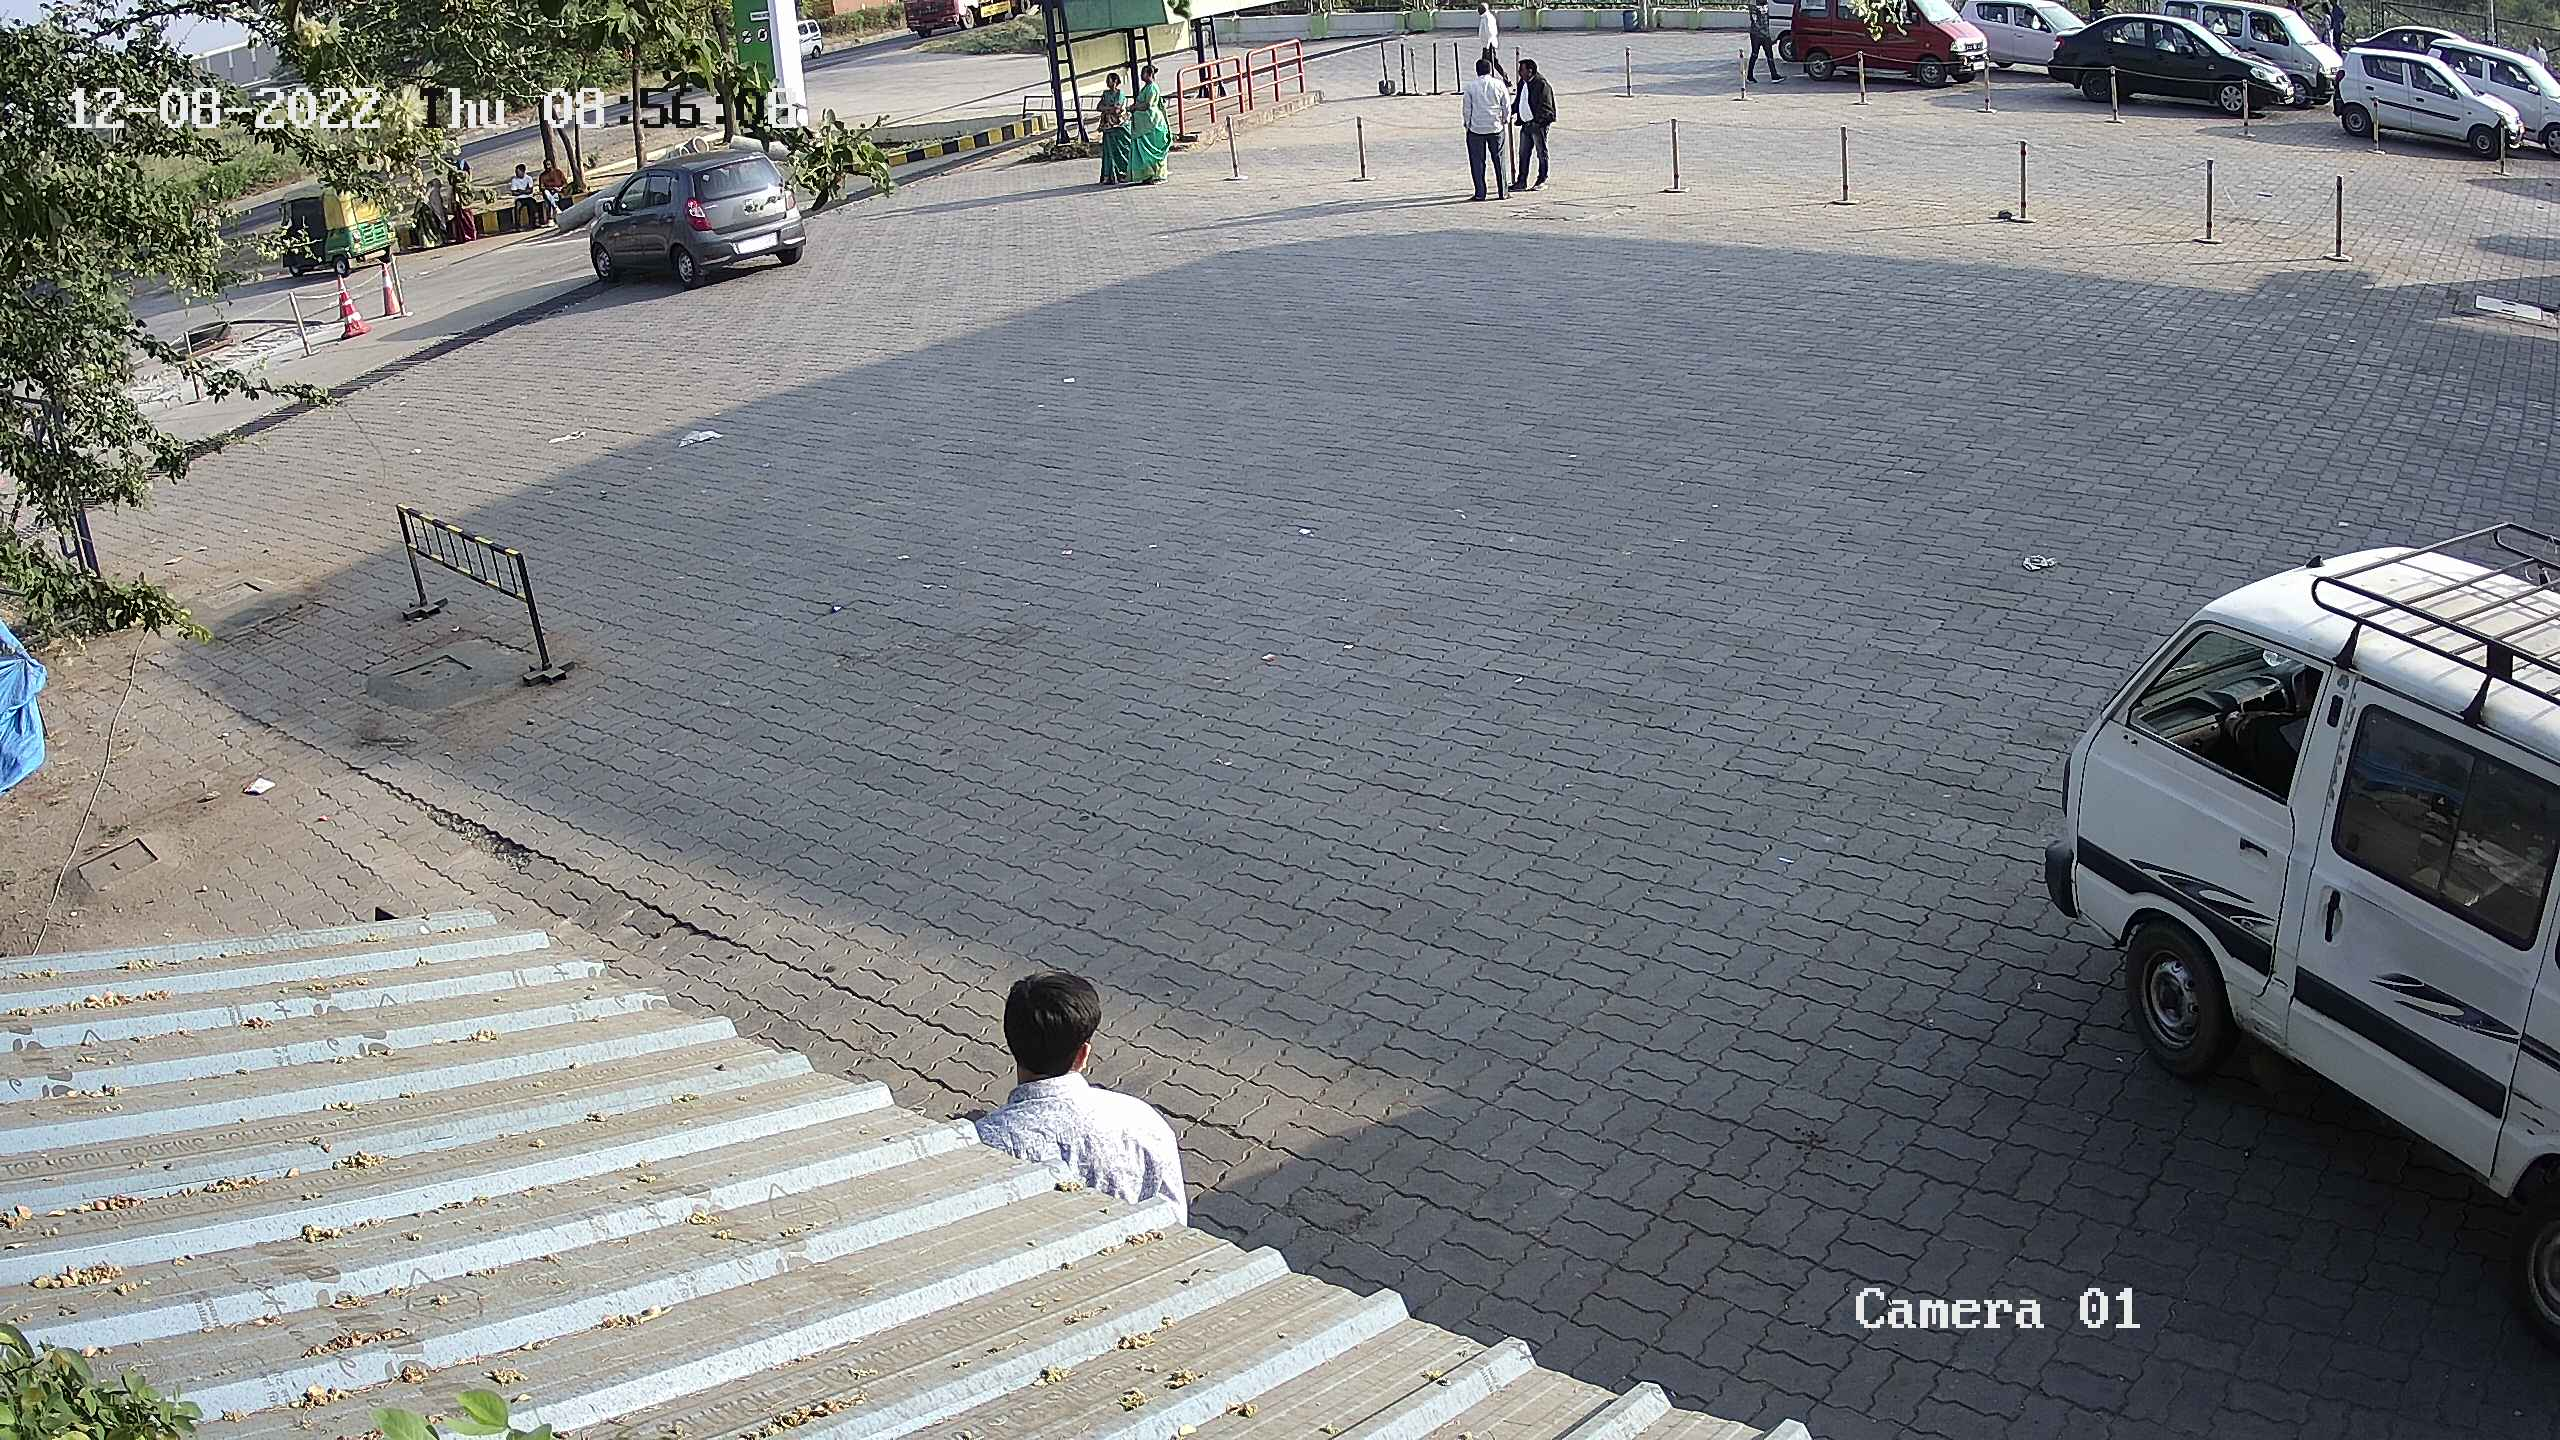Auto: (258, 148, 418, 302)
Car: (2031, 512, 2558, 1385), (571, 125, 825, 297), (2034, 5, 2307, 127), (2316, 33, 2534, 165), (2133, 2, 2360, 118), (1778, 0, 2003, 91), (2418, 30, 2556, 169), (1943, 2, 2099, 74), (2331, 11, 2483, 70), (1737, 0, 1815, 74), (784, 9, 846, 77)
HMV: (883, 0, 1065, 56)
